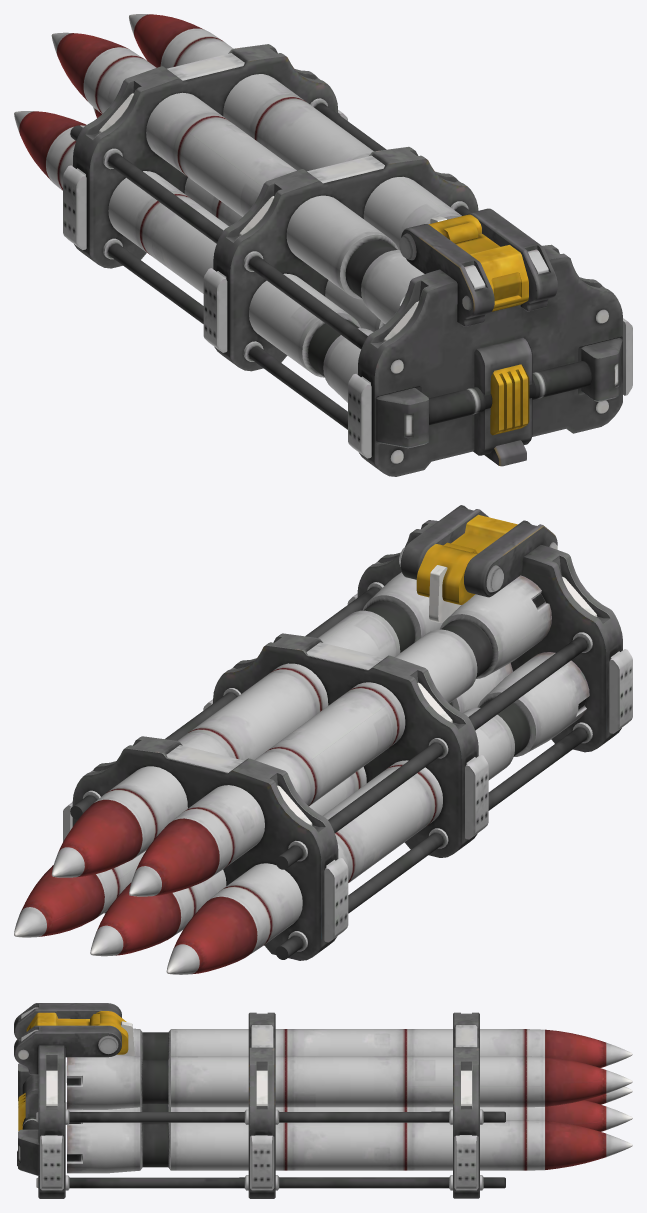
The model's file is Demo_daodan.FBX.
3 renders of one model, top to bottom at view 1: azimuth 30°, elevation 25°; view 2: azimuth 150°, elevation 25°; view 3: azimuth 270°, elevation 25°, orthographic. The views are drawn at different scales.
Parts seen in each view (by area): view 1: Demo_daodan; view 2: Demo_daodan; view 3: Demo_daodan.
Part boxes in pixels (x1,y1,x2,y2): Demo_daodan: (14, 14, 632, 476); Demo_daodan: (14, 505, 632, 974); Demo_daodan: (14, 1003, 632, 1198).
Size of the model in its own units: 3.2 by 2.23 by 8.67.
